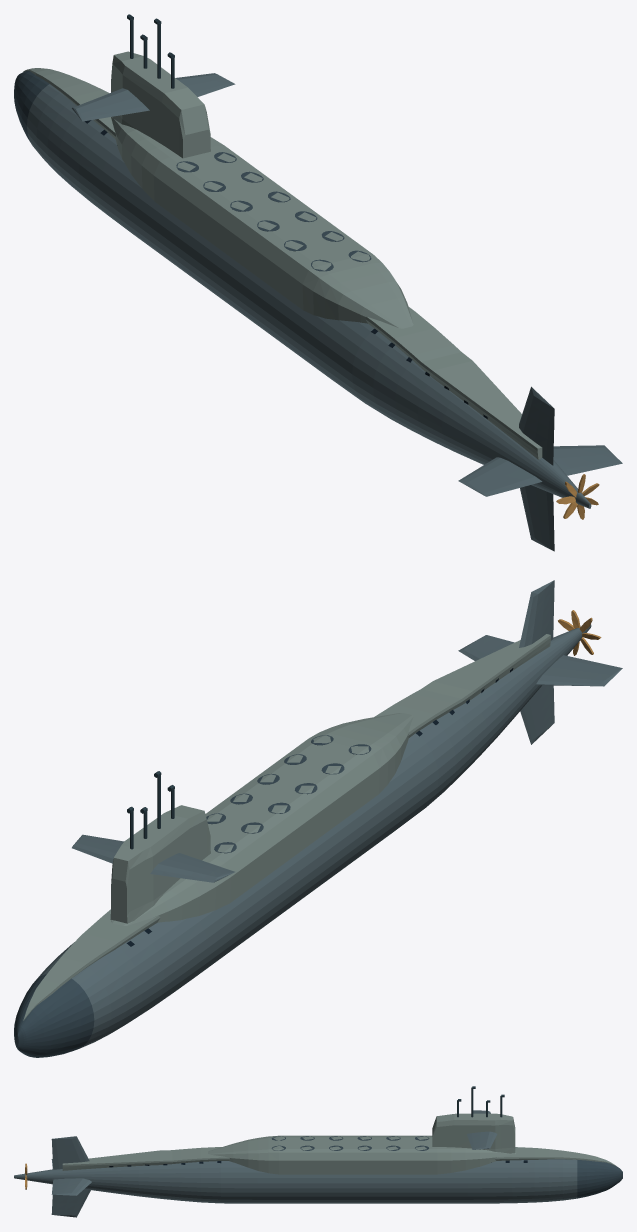
The model's file is archive-type-092-refit.glb.
3 views of the same model, one above another, from view 1: azimuth 30°, elevation 25°; view 2: azimuth 150°, elevation 25°; view 3: azimuth 270°, elevation 25° (orthographic). The views are drawn at different scales.
Visible parts, largest first — view 1: archive-type-092-refit-pressure_hull.001-geometry, archive-type-092-refit-missileCasing-geometry, archive-type-092-refit-cruise_deck.001-geometry, archive-type-092-refit-submarine_sail.001-geometry, archive-type-092-refit-stern_rudder_2.001-geometry, archive-type-092-refit-stern_rudder_3.001-geometry, archive-type-092-refit-stern_rudder_1.001-geometry, archive-type-092-refit-stern_rudder_0.001-geometry, archive-type-092-refit-diving_plane_-1.001-geometry, archive-type-092-refit-diving_plane_1.001-geometry; view 2: archive-type-092-refit-pressure_hull.001-geometry, archive-type-092-refit-missileCasing-geometry, archive-type-092-refit-cruise_deck.001-geometry, archive-type-092-refit-submarine_sail.001-geometry, archive-type-092-refit-stern_rudder_2.001-geometry, archive-type-092-refit-stern_rudder_3.001-geometry, archive-type-092-refit-diving_plane_-1.001-geometry, archive-type-092-refit-stern_rudder_1.001-geometry, archive-type-092-refit-diving_plane_1.001-geometry, archive-type-092-refit-stern_rudder_0.001-geometry; view 3: archive-type-092-refit-pressure_hull.001-geometry, archive-type-092-refit-missileCasing-geometry, archive-type-092-refit-cruise_deck.001-geometry, archive-type-092-refit-submarine_sail.001-geometry, archive-type-092-refit-stern_rudder_3.001-geometry, archive-type-092-refit-stern_rudder_1.001-geometry, archive-type-092-refit-stern_rudder_0.001-geometry, archive-type-092-refit-diving_plane_1.001-geometry.
Part boxes in pixels (x1=…): archive-type-092-refit-pressure_hull.001-geometry: x1=14, y1=70, x2=591, y2=508; archive-type-092-refit-missileCasing-geometry: x1=111, y1=117, x2=413, y2=328; archive-type-092-refit-cruise_deck.001-geometry: x1=23, y1=68, x2=542, y2=459; archive-type-092-refit-submarine_sail.001-geometry: x1=111, y1=14, x2=210, y2=158; archive-type-092-refit-stern_rudder_2.001-geometry: x1=458, y1=457, x2=542, y2=496; archive-type-092-refit-stern_rudder_3.001-geometry: x1=519, y1=386, x2=554, y2=465; archive-type-092-refit-stern_rudder_1.001-geometry: x1=520, y1=485, x2=554, y2=551; archive-type-092-refit-stern_rudder_0.001-geometry: x1=553, y1=445, x2=622, y2=475; archive-type-092-refit-diving_plane_-1.001-geometry: x1=72, y1=88, x2=149, y2=121; archive-type-092-refit-diving_plane_1.001-geometry: x1=176, y1=73, x2=235, y2=96; archive-type-092-refit-pressure_hull.001-geometry: x1=14, y1=624, x2=591, y2=1057; archive-type-092-refit-missileCasing-geometry: x1=111, y1=713, x2=413, y2=925; archive-type-092-refit-cruise_deck.001-geometry: x1=23, y1=634, x2=550, y2=1020; archive-type-092-refit-submarine_sail.001-geometry: x1=110, y1=771, x2=210, y2=923; archive-type-092-refit-stern_rudder_2.001-geometry: x1=536, y1=655, x2=622, y2=686; archive-type-092-refit-stern_rudder_3.001-geometry: x1=519, y1=580, x2=554, y2=647; archive-type-092-refit-diving_plane_-1.001-geometry: x1=150, y1=853, x2=234, y2=882; archive-type-092-refit-stern_rudder_1.001-geometry: x1=520, y1=685, x2=554, y2=744; archive-type-092-refit-diving_plane_1.001-geometry: x1=72, y1=834, x2=124, y2=863; archive-type-092-refit-stern_rudder_0.001-geometry: x1=458, y1=635, x2=514, y2=660; archive-type-092-refit-pressure_hull.001-geometry: x1=14, y1=1159, x2=622, y2=1203; archive-type-092-refit-missileCasing-geometry: x1=208, y1=1135, x2=516, y2=1174; archive-type-092-refit-cruise_deck.001-geometry: x1=62, y1=1147, x2=616, y2=1170; archive-type-092-refit-submarine_sail.001-geometry: x1=432, y1=1086, x2=515, y2=1153; archive-type-092-refit-stern_rudder_3.001-geometry: x1=51, y1=1136, x2=89, y2=1169; archive-type-092-refit-stern_rudder_1.001-geometry: x1=51, y1=1189, x2=90, y2=1217; archive-type-092-refit-stern_rudder_0.001-geometry: x1=51, y1=1178, x2=91, y2=1195; archive-type-092-refit-diving_plane_1.001-geometry: x1=467, y1=1131, x2=497, y2=1149.
Bounding box in the file's own units: 1.55 × 2.38 × 10.
